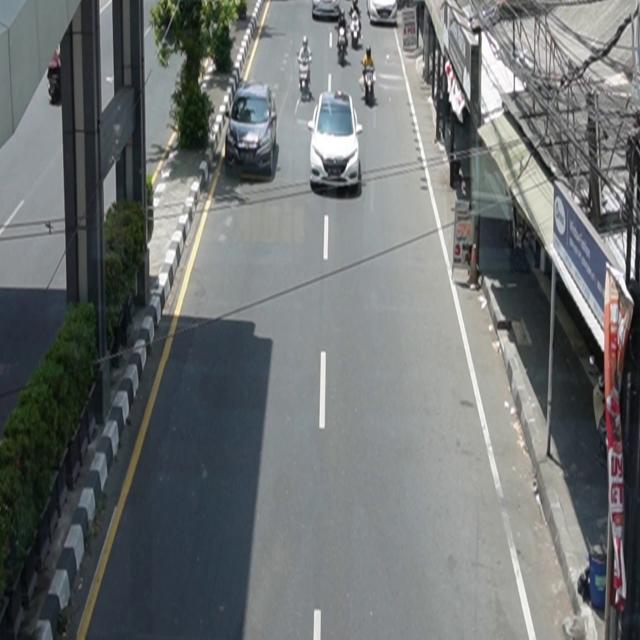car: (308, 90, 364, 192), (226, 83, 278, 176), (367, 1, 399, 26), (313, 1, 342, 21)
